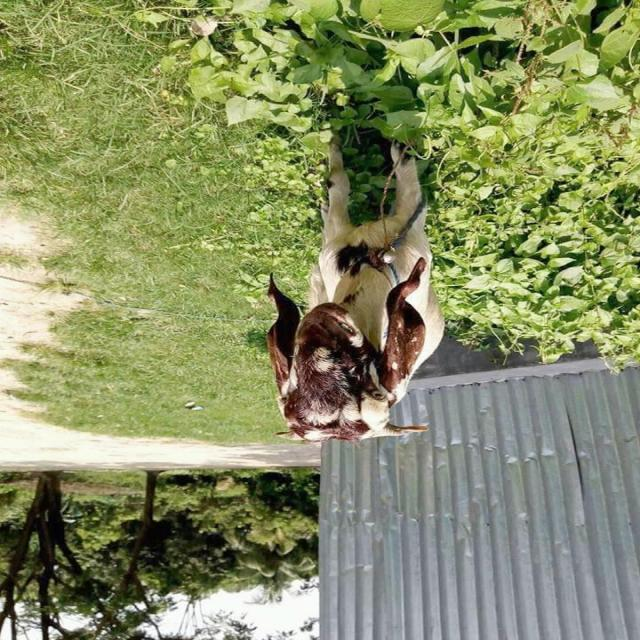Goat: (266, 134, 447, 445)
